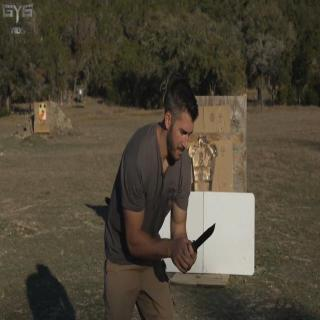knife: (174, 219, 218, 273)
